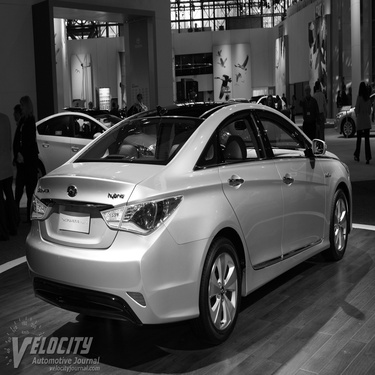car: (21, 87, 355, 347), (28, 101, 159, 189), (246, 90, 296, 124), (340, 92, 372, 137), (56, 18, 106, 39)
